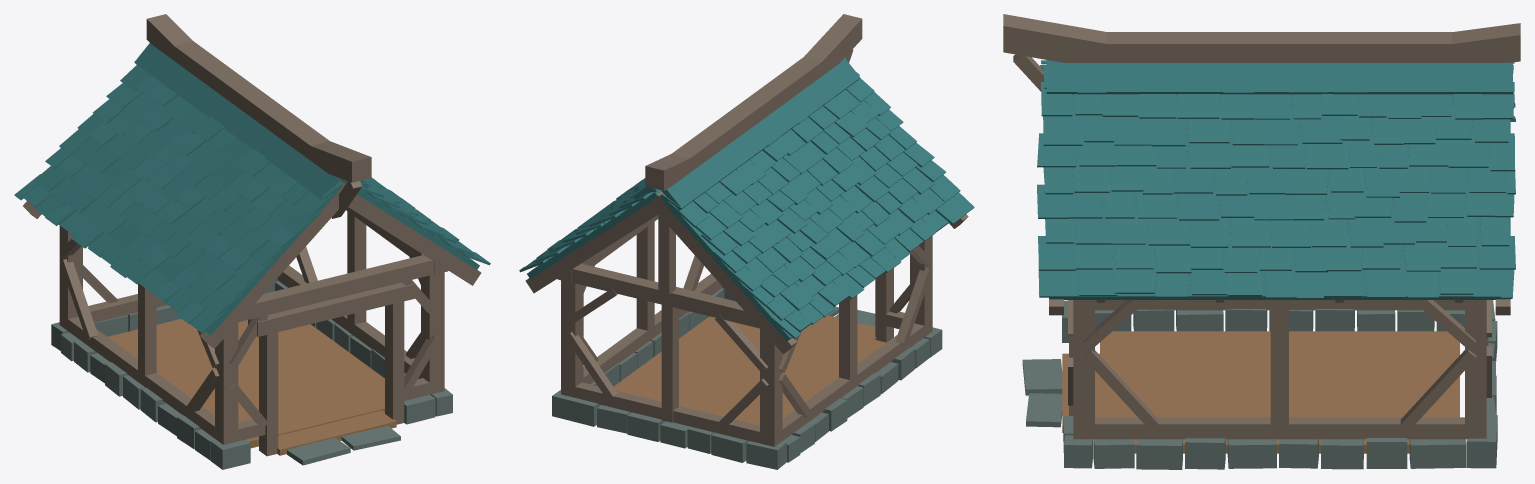
Rendered from roof.glb.
The picture shows the model from 3 angles, left to right: view 1: azimuth 30°, elevation 25°; view 2: azimuth 150°, elevation 25°; view 3: azimuth 270°, elevation 25°; orthographic projection. The views are drawn at different scales.
Parts seen in each view (by area): view 1: roof_shingles, timber_frame, floor, roof_timbers, stone_footing; view 2: roof_shingles, timber_frame, roof_timbers, floor, stone_footing; view 3: roof_shingles, floor, timber_frame, stone_footing, roof_timbers.
Part boxes in pixels (bbox=[...]): roof_shingles: bbox=[14, 43, 490, 335]; timber_frame: bbox=[59, 207, 448, 456]; floor: bbox=[107, 318, 396, 455]; roof_timbers: bbox=[23, 14, 481, 348]; stone_footing: bbox=[51, 280, 452, 469]; roof_shingles: bbox=[519, 58, 974, 341]; timber_frame: bbox=[557, 214, 932, 446]; roof_timbers: bbox=[525, 14, 968, 354]; floor: bbox=[613, 315, 885, 425]; stone_footing: bbox=[552, 288, 942, 469]; roof_shingles: bbox=[1037, 60, 1515, 299]; floor: bbox=[1062, 331, 1459, 453]; timber_frame: bbox=[1068, 300, 1491, 439]; stone_footing: bbox=[1022, 300, 1497, 469]; roof_timbers: bbox=[1003, 14, 1520, 315].
Size of the model in its own units: 5.05 by 4.99 by 6.21.
